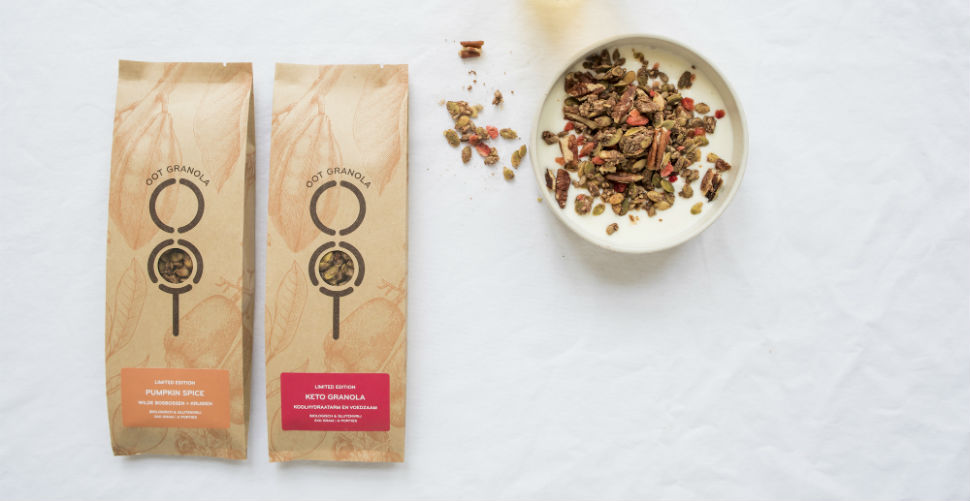KetoGranola: (277, 371, 393, 435)
